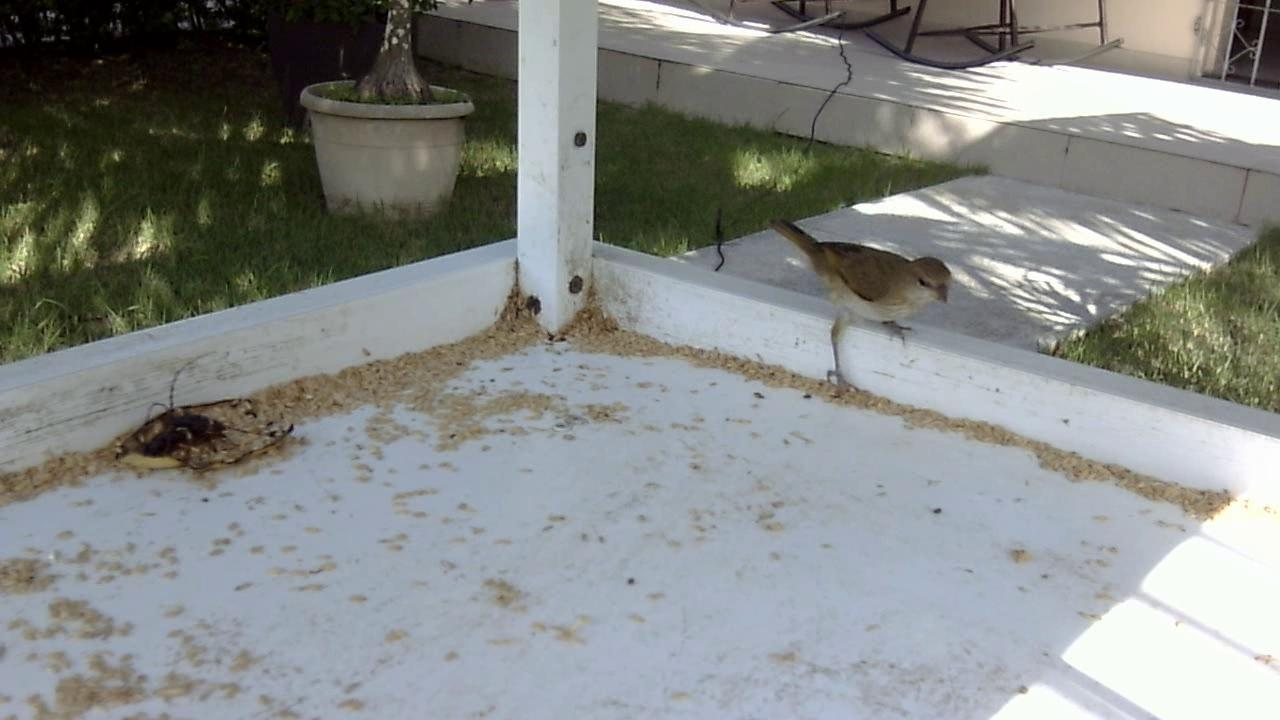canario_do_amazonas: (762, 212, 956, 401)
